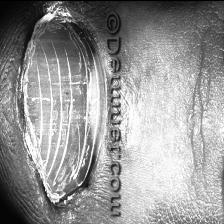Toxin: (18, 0, 102, 208)
